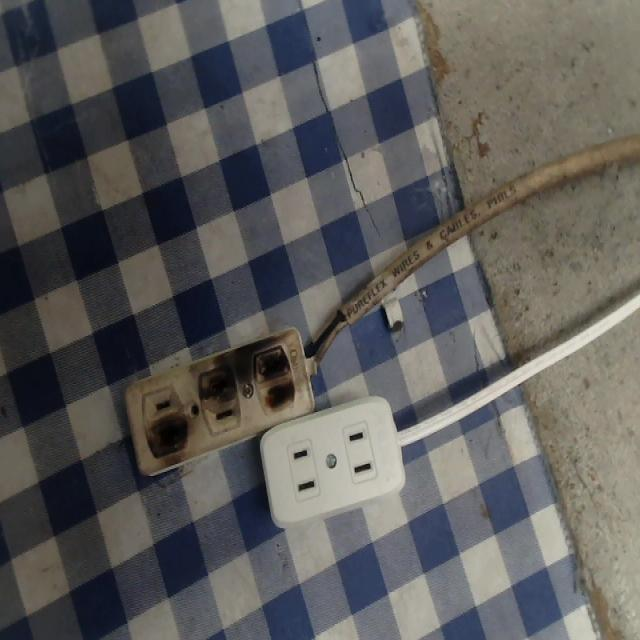-: (251, 334, 309, 426), (140, 414, 190, 458), (195, 355, 233, 401)
